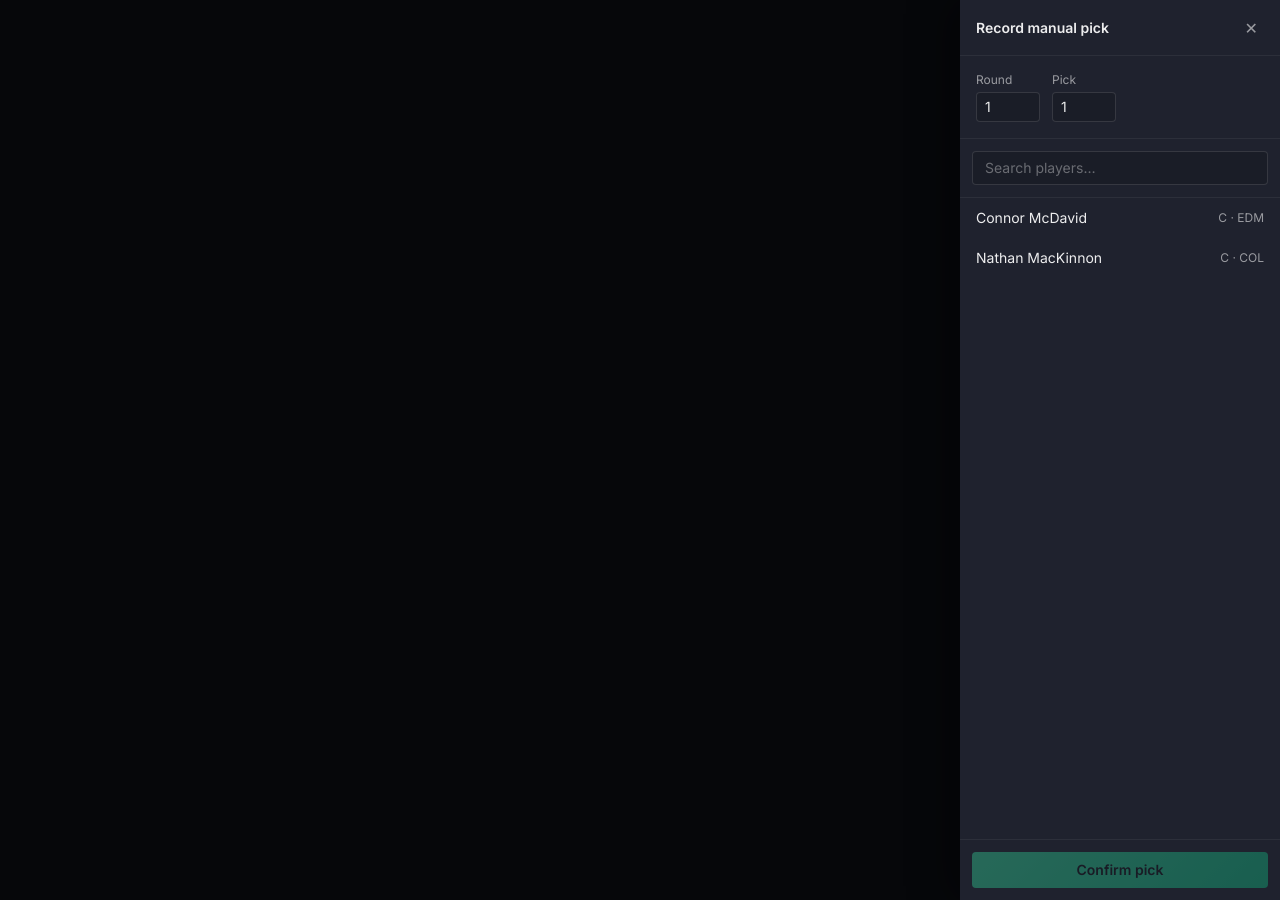
ManualPickDrawer › confirm button is enabled after selecting a player
Click the text "Connor McDavid": (1032, 218) left=976, top=208, right=1087, bottom=228
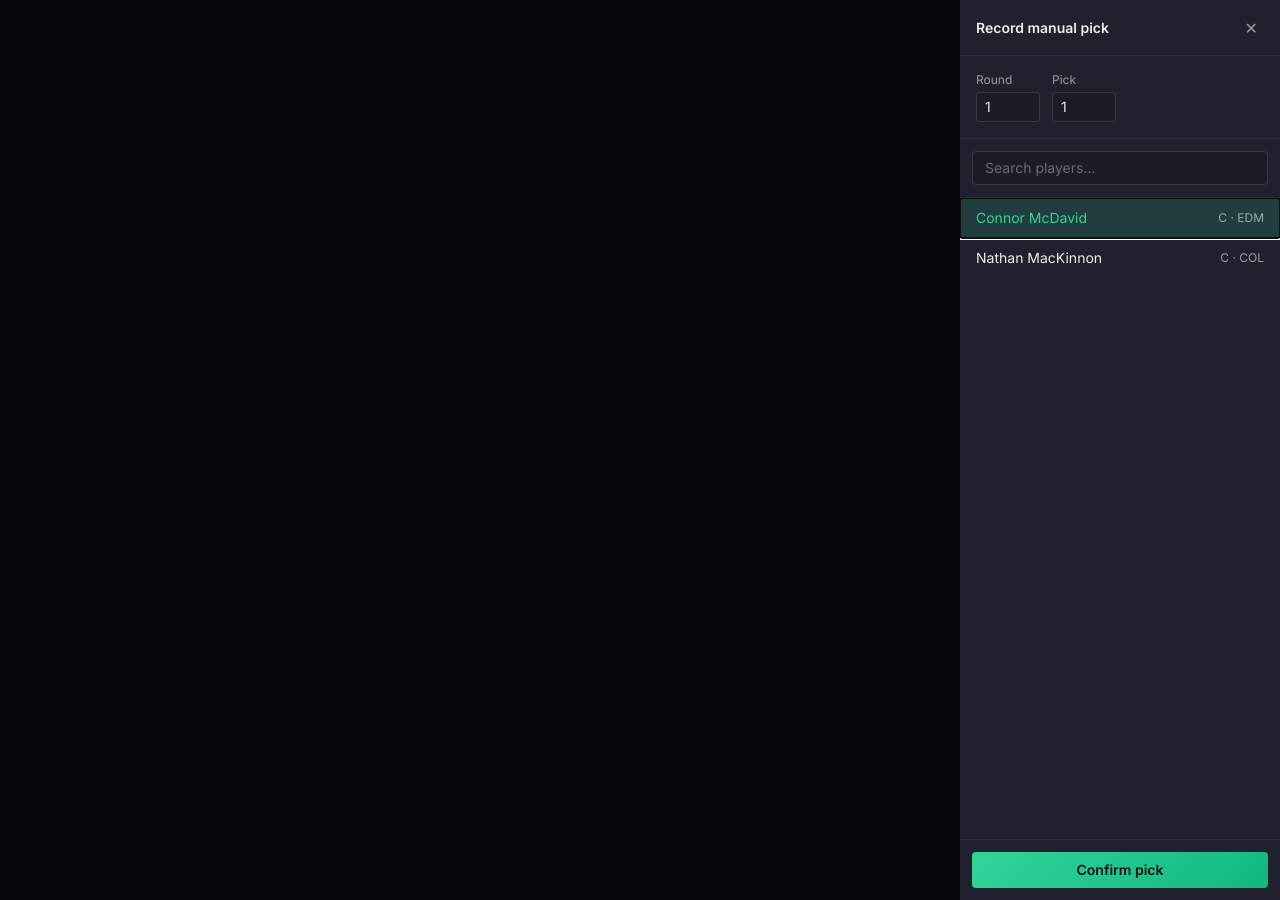
Expected: the button "Confirm pick" is enabled, left=972, top=852, right=1268, bottom=888
